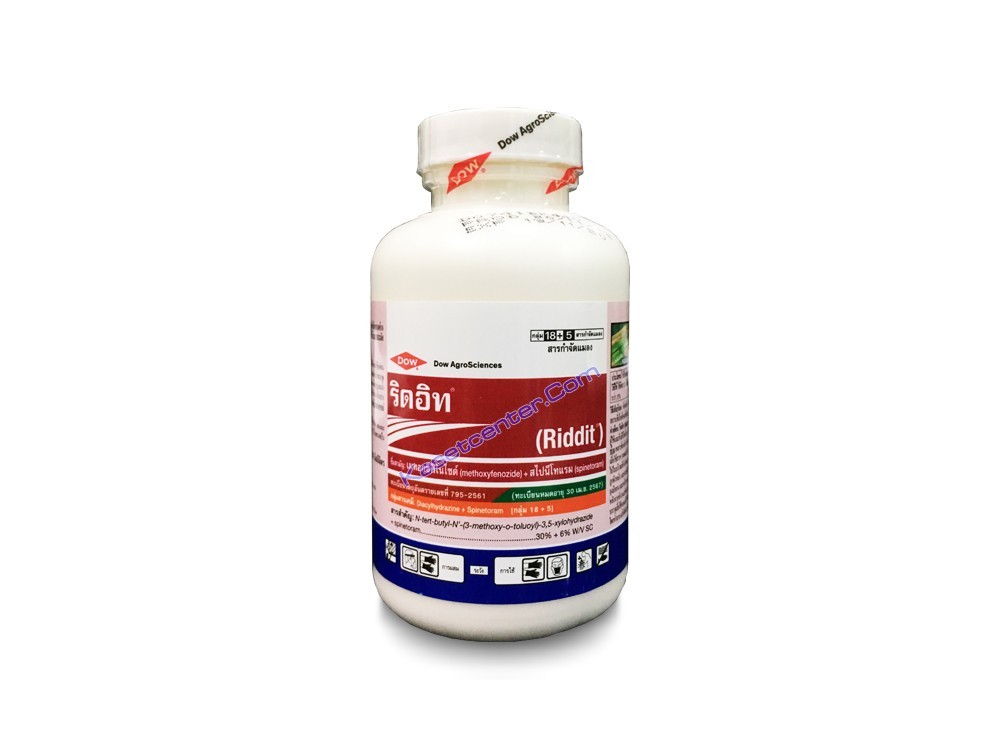Insecticide: (359, 99, 640, 654)
